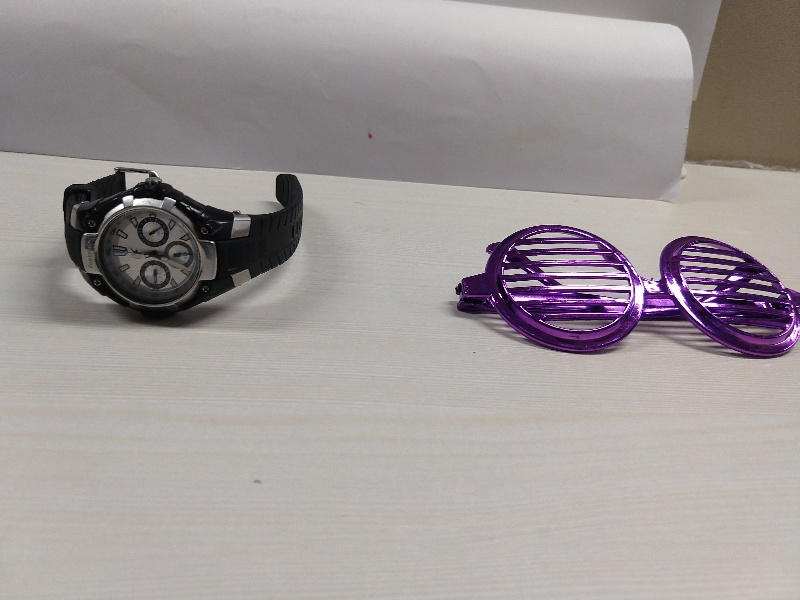shades: (454, 205, 800, 363)
watch: (50, 160, 317, 313)
